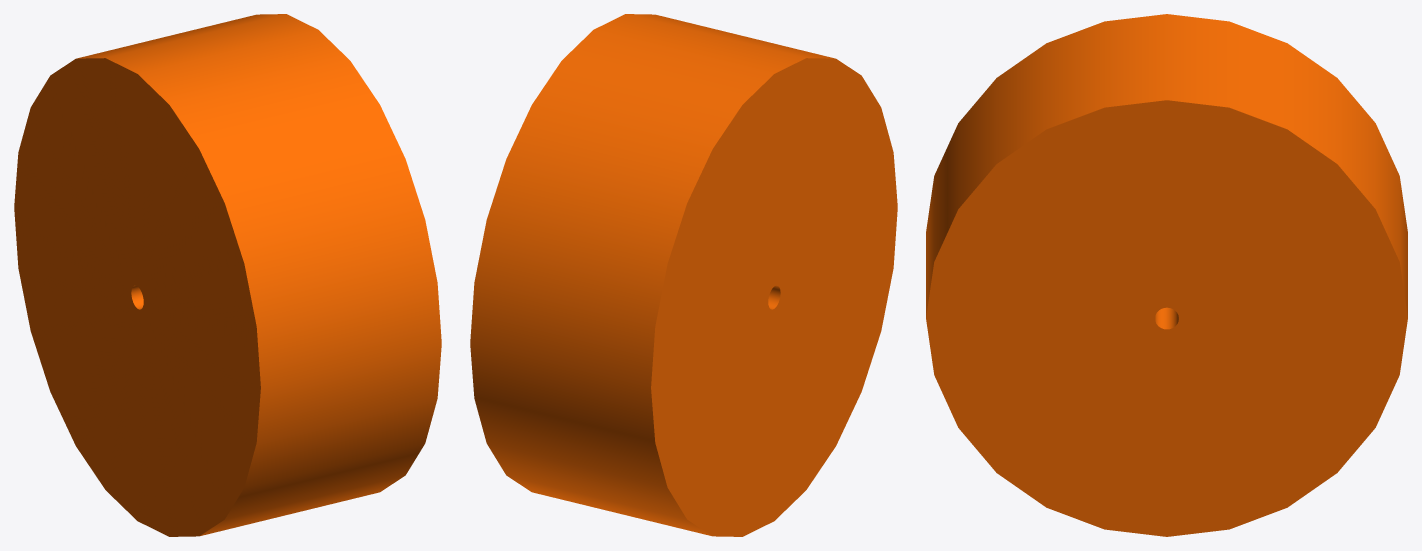
Rendered from PoolishTool.FBX.
3 renders of one model, left to right at view 1: azimuth 30°, elevation 25°; view 2: azimuth 150°, elevation 25°; view 3: azimuth 270°, elevation 25°, orthographic. The views are drawn at different scales.
Visible parts, largest first — view 1: PoolishTool; view 2: PoolishTool; view 3: PoolishTool.
Part boxes in pixels (bbox=[...]): PoolishTool: bbox=[14, 14, 441, 536]; PoolishTool: bbox=[470, 14, 897, 536]; PoolishTool: bbox=[926, 14, 1407, 536].
Bounding box in the file's own units: 16.93 × 40 × 40.
